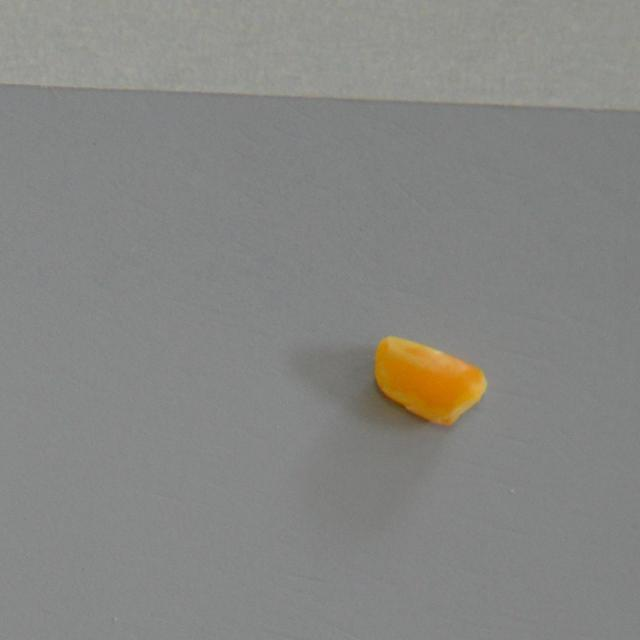pelicula: (368, 312, 486, 434)
